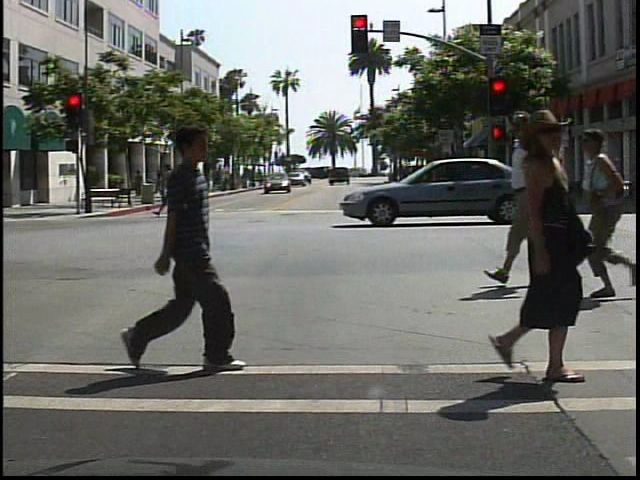person: (482, 106, 595, 383), (128, 116, 244, 373), (501, 111, 577, 296), (576, 115, 637, 304), (158, 158, 192, 219), (134, 164, 144, 205)
